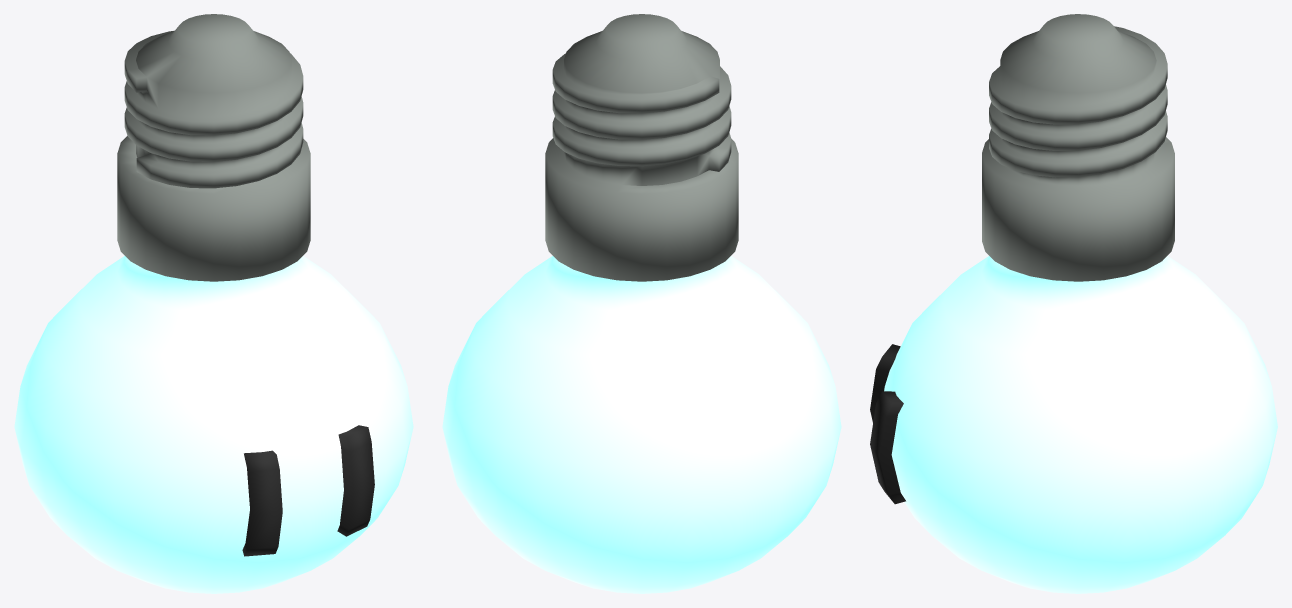
File: lightman.glb
3 renders of one model, left to right at view 1: azimuth 30°, elevation 25°; view 2: azimuth 150°, elevation 25°; view 3: azimuth 270°, elevation 25°, orthographic.
Visible parts, largest first — view 1: Sphere.001; view 2: Sphere.001; view 3: Sphere.001.
Boxes of the visible parts, x1,y1,x2,y2 form: Sphere.001: [14, 14, 413, 593]; Sphere.001: [442, 14, 841, 593]; Sphere.001: [870, 14, 1277, 593].
Bounding box in the file's own units: 2.06 × 3.09 × 2.1.
